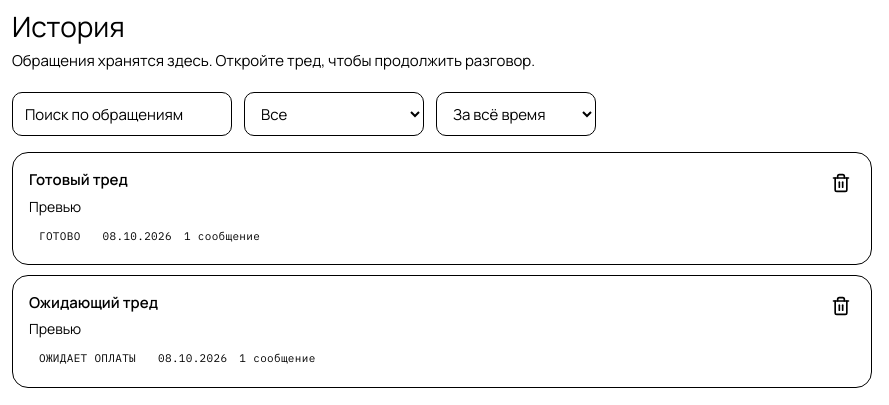
Test case: HistoryPage › фильтрует по статусу
The image size is (889, 405).
Check: the text "Готовый тред" is shown, box [29,169,128,190]
Select "Готово" in the dropdown named "Статус" at (334, 114), box [244,92,424,136]
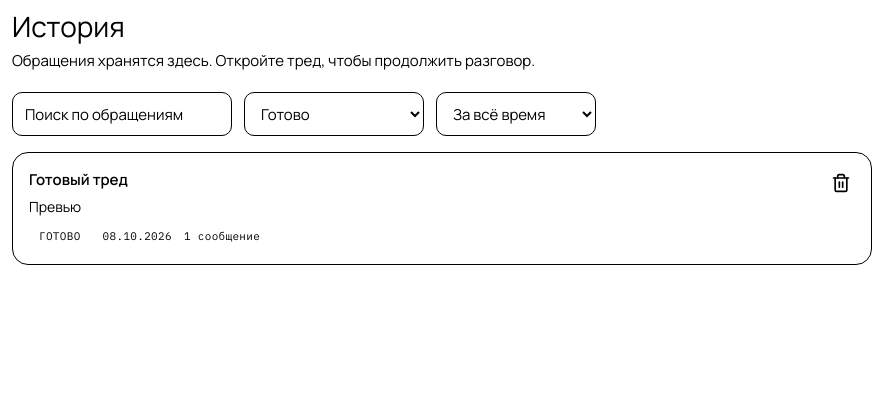
Check: the text "Готовый тред" is shown, box [29,169,128,190]
Check: the link "Ожидающий тред" is gone
